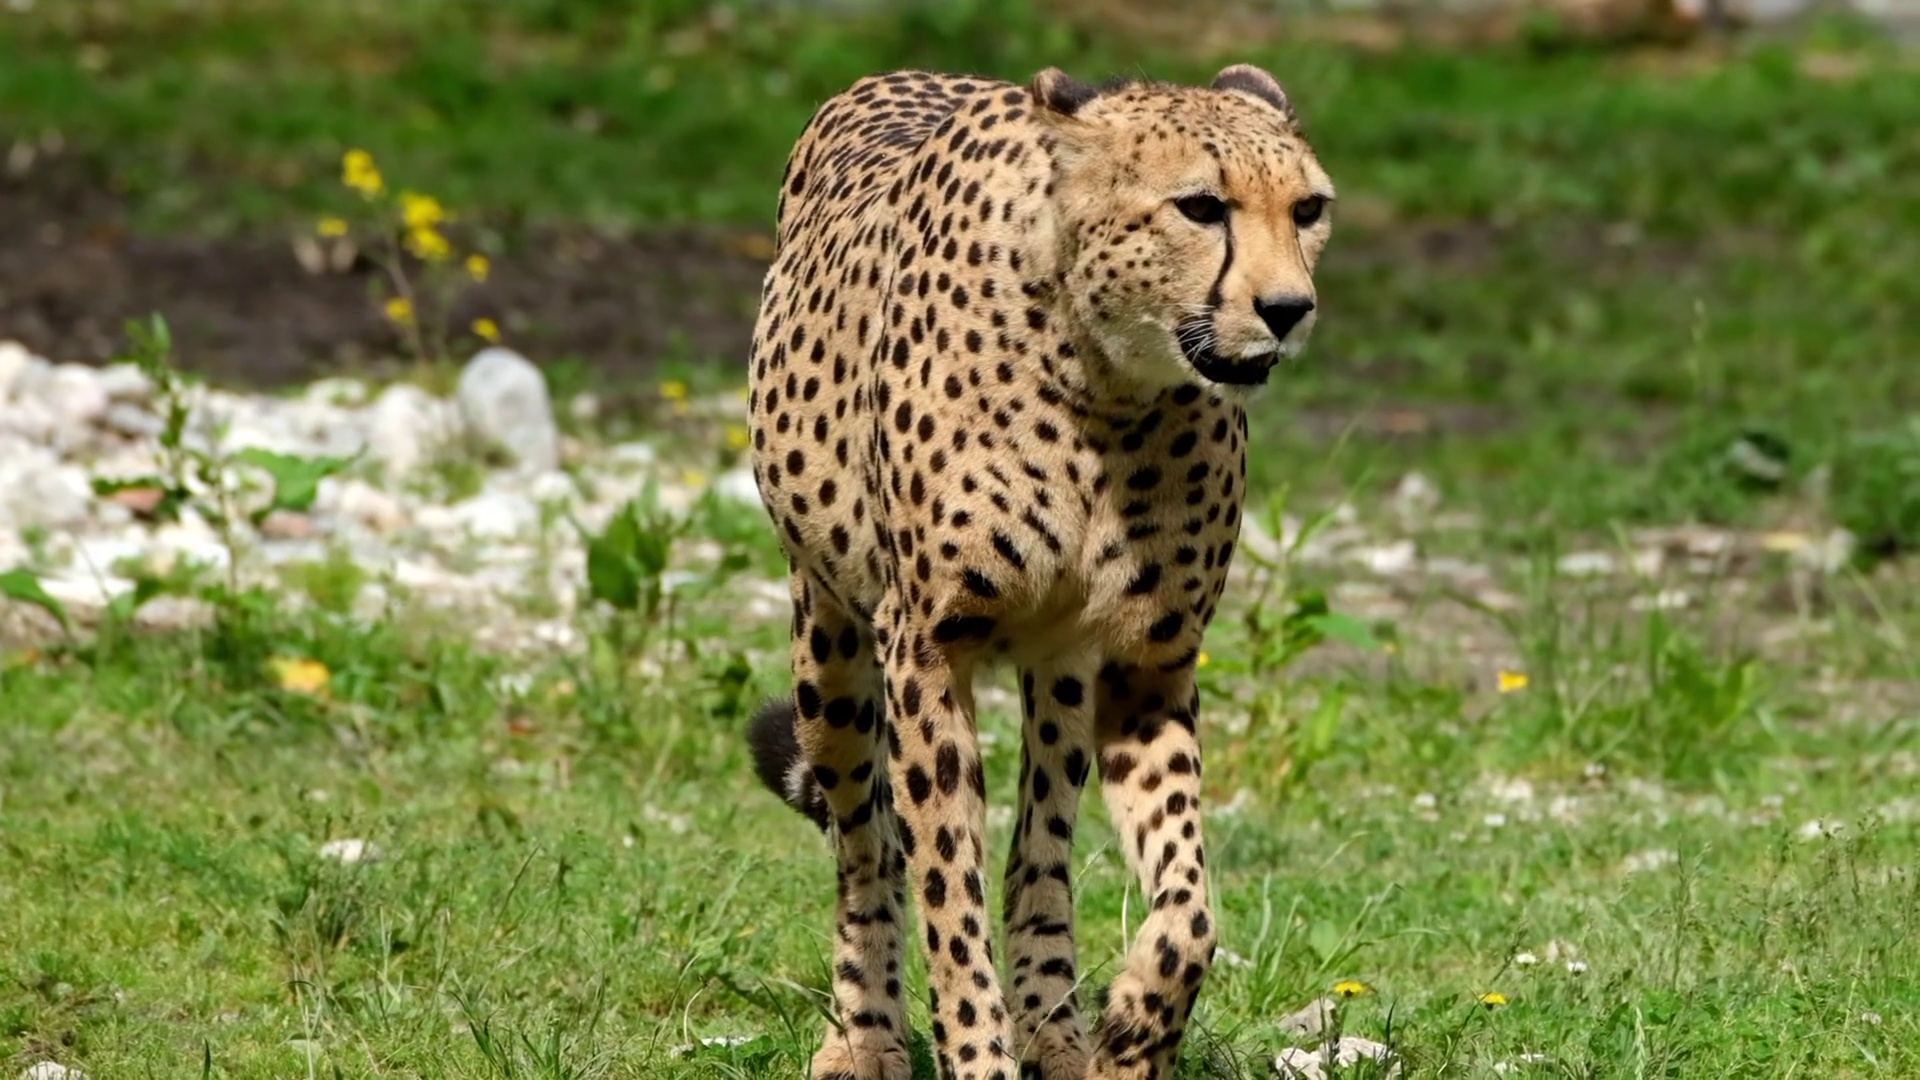Cheetah: (738, 58, 1342, 1080)
